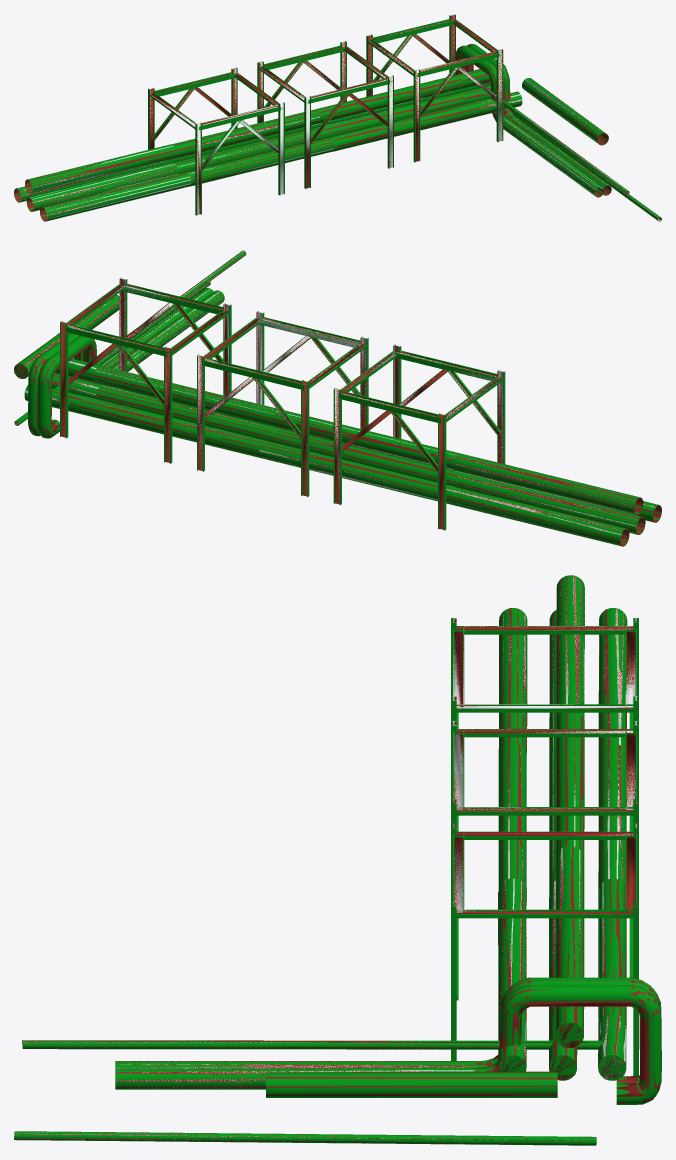
The model's file is piperacks-batching-test.glb.
The picture shows the model from 3 angles, top to bottom: view 1: azimuth 30°, elevation 25°; view 2: azimuth 150°, elevation 25°; view 3: azimuth 270°, elevation 25°; orthographic projection. The views are drawn at different scales.
Visible parts, largest first — view 1: Merged_Output, Rusty-metal-frame_04;hires, Rusty-metal-frame_15;hires, Rusty-metal-frame_14;hires, Rusty-metal-frame_04;lowres, Pipe_37.002.003;hires, Pipe_37.003.003;hires, Pipe_37.002.006;hires, Pipe_37.002.002;hires, Rusty-metal-frame_14;lowres, Pipe_37.001.003;hires, Pipe_37.003.006;hires (+28 smaller); view 2: Merged_Output, Rusty-metal-frame_15;hires, Rusty-metal-frame_04;hires, Rusty-metal-frame_14;hires, Rusty-metal-frame_15;lowres, Rusty-metal-frame_04;lowres, Rusty-metal-frame_14;lowres, Pipe_37.006;hires, Pipe_37.003.003;hires, Pipe_37.005;hires, Pipe_37.003.002;hires, Pipe_37.009;hires (+23 smaller); view 3: Merged_Output, Pipe_33.003;hires, Pipe_31.004;hires, Pipe_32.001;hires, Rusty-metal-frame_04;hires, Pipe_32.007;hires, Rusty-metal-frame_14;hires, Pipe_31.007;hires, Rusty-metal-frame_15;hires, Pipe_31.004;lowres, Pipe_37.003.002;hires, Pipe_37.002.006;hires (+28 smaller).
Boxes of the visible parts, left/top/right/bottom form: Merged_Output: left=18, top=15, right=660, bottom=221; Rusty-metal-frame_04;hires: left=366, top=14, right=503, bottom=162; Rusty-metal-frame_15;hires: left=148, top=67, right=284, bottom=215; Rusty-metal-frame_14;hires: left=257, top=41, right=393, bottom=188; Rusty-metal-frame_04;lowres: left=368, top=15, right=502, bottom=161; Pipe_37.002.003;hires: left=40, top=172, right=191, bottom=221; Pipe_37.003.003;hires: left=25, top=144, right=176, bottom=193; Pipe_37.002.006;hires: left=187, top=137, right=334, bottom=186; Pipe_37.002.002;hires: left=330, top=102, right=477, bottom=150; Rusty-metal-frame_14;lowres: left=259, top=41, right=392, bottom=188; Pipe_37.001.003;hires: left=26, top=162, right=178, bottom=211; Pipe_37.003.006;hires: left=172, top=109, right=319, bottom=158; Merged_Output: left=14, top=251, right=655, bottom=535; Rusty-metal-frame_15;hires: left=333, top=344, right=505, bottom=530; Rusty-metal-frame_04;hires: left=60, top=278, right=231, bottom=463; Rusty-metal-frame_14;hires: left=197, top=311, right=368, bottom=497; Rusty-metal-frame_15;lowres: left=335, top=345, right=502, bottom=529; Rusty-metal-frame_04;lowres: left=61, top=278, right=229, bottom=462; Rusty-metal-frame_14;lowres: left=198, top=312, right=366, bottom=496; Pipe_37.006;hires: left=446, top=485, right=629, bottom=546; Pipe_37.003.003;hires: left=453, top=453, right=643, bottom=514; Pipe_37.005;hires: left=80, top=396, right=265, bottom=457; Pipe_37.003.002;hires: left=94, top=365, right=277, bottom=426; Pipe_37.009;hires: left=259, top=441, right=437, bottom=501; Merged_Output: left=14, top=576, right=637, bottom=1145; Pipe_33.003;hires: left=266, top=1072, right=557, bottom=1097; Pipe_31.004;hires: left=474, top=977, right=661, bottom=1104; Pipe_32.001;hires: left=14, top=1131, right=596, bottom=1145; Rusty-metal-frame_04;hires: left=451, top=823, right=638, bottom=1075; Pipe_32.007;hires: left=22, top=1040, right=602, bottom=1049; Rusty-metal-frame_14;hires: left=451, top=720, right=638, bottom=831; Pipe_31.007;hires: left=115, top=1068, right=474, bottom=1089; Rusty-metal-frame_15;hires: left=451, top=618, right=638, bottom=728; Pipe_31.004;lowres: left=474, top=977, right=661, bottom=1104; Pipe_37.003.002;hires: left=556, top=846, right=584, bottom=977; Pipe_37.002.006;hires: left=498, top=743, right=526, bottom=890.
Bounding box in the file's own units: 10.47 × 2.03 × 6.07.
